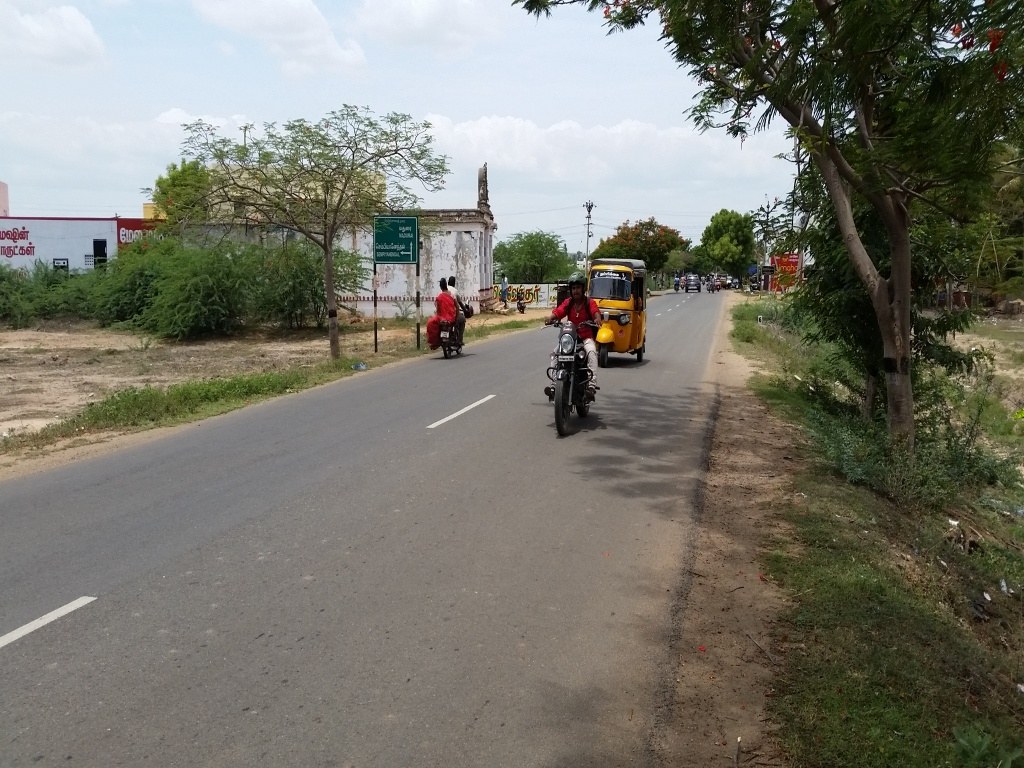biker: (530, 260, 618, 442), (418, 257, 483, 369)
helmet: (563, 267, 592, 306)
nohelmet: (447, 272, 460, 296), (436, 273, 449, 297)
